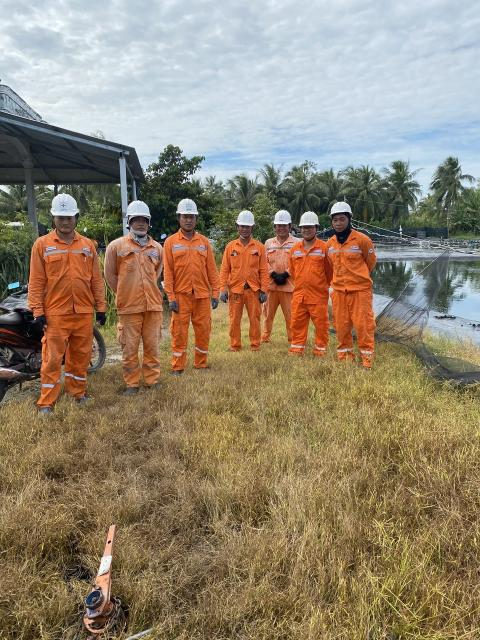gloves: (22, 302, 63, 338), (91, 300, 119, 332), (267, 266, 286, 297), (276, 257, 291, 293), (162, 294, 186, 316), (204, 290, 223, 312), (257, 286, 273, 311), (217, 284, 233, 305)
helmet: (48, 188, 84, 222), (122, 198, 152, 233), (326, 197, 360, 225), (174, 194, 205, 221), (230, 206, 262, 231), (268, 207, 297, 230), (300, 203, 322, 233)
